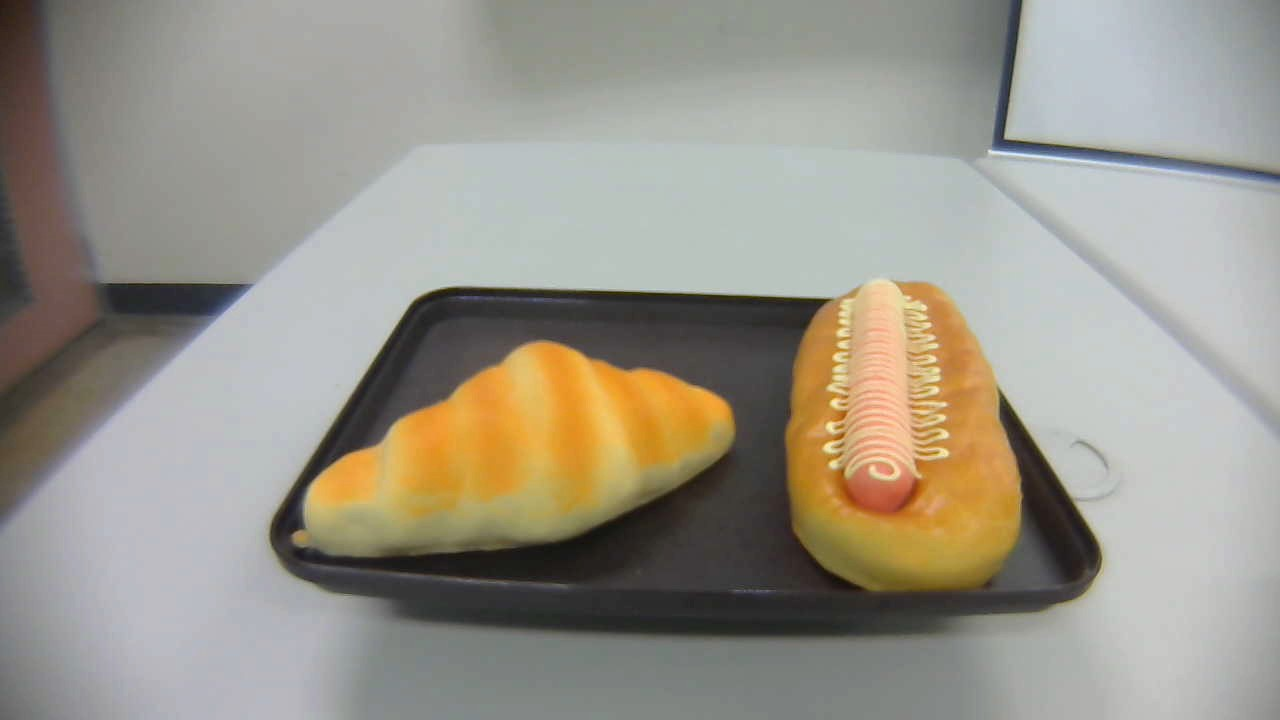croissant: (302, 339, 737, 558)
hot dog: (786, 274, 1024, 598)
